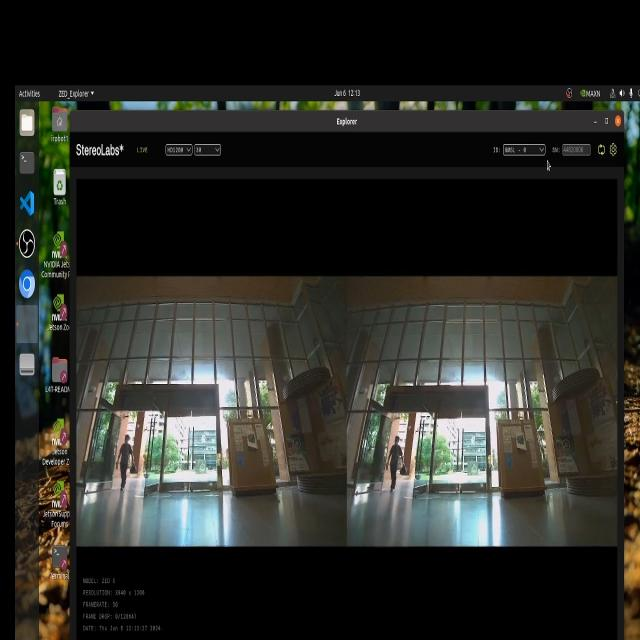green: (246, 433, 258, 450), (518, 428, 526, 448)
